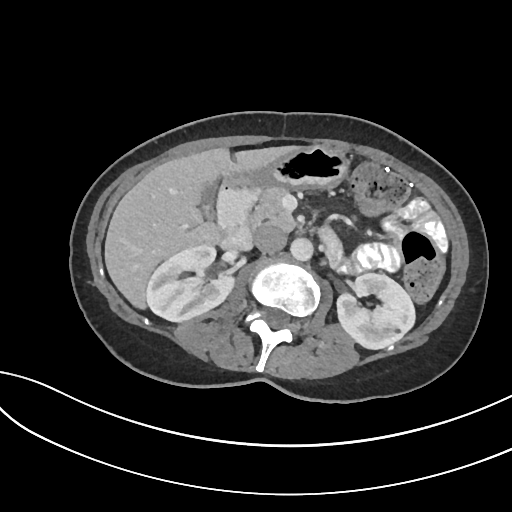Lesion: (390, 325, 406, 336)
